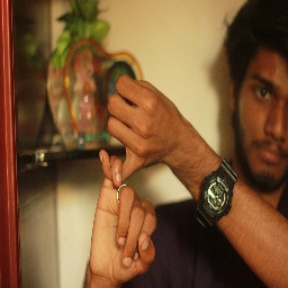S: (83, 72, 178, 278)
